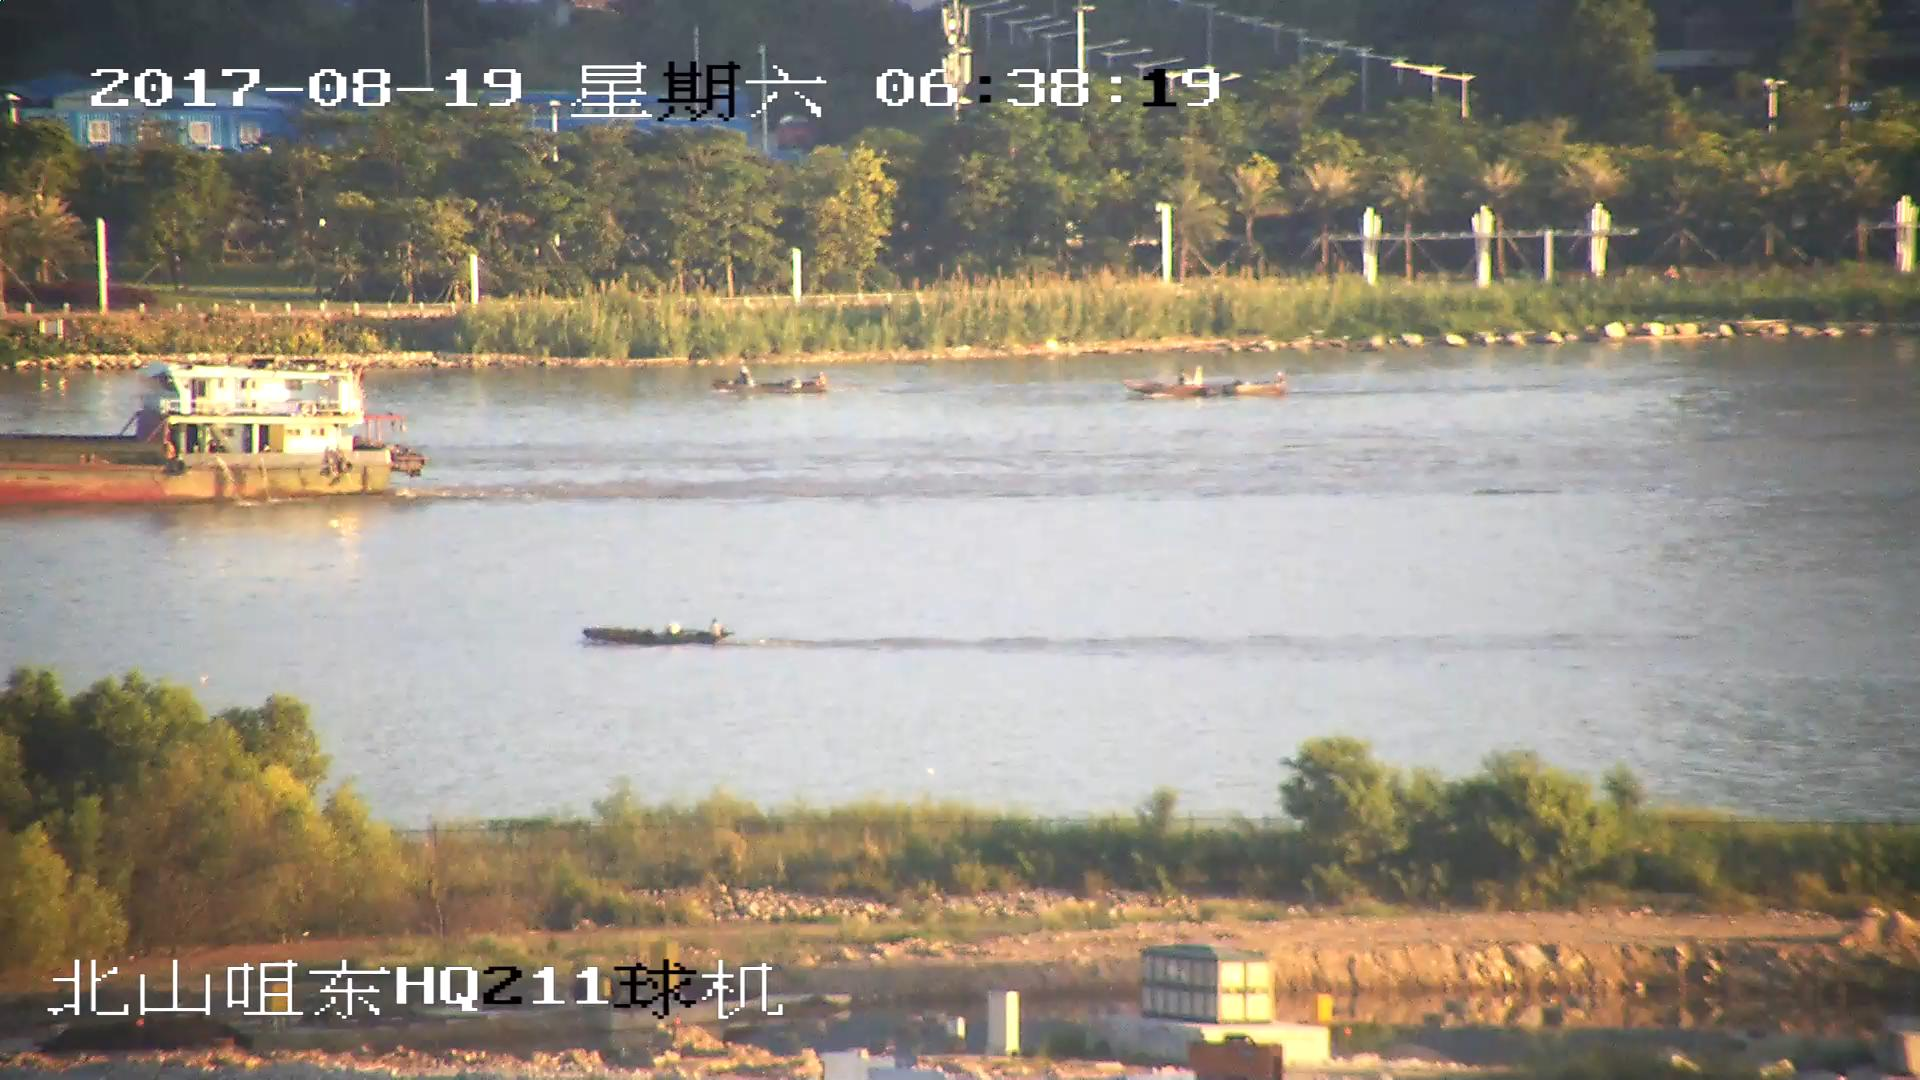bulk cargo carrier: (1, 360, 424, 505)
fishing boat: (1129, 367, 1285, 401), (581, 616, 724, 645), (716, 366, 829, 393)
